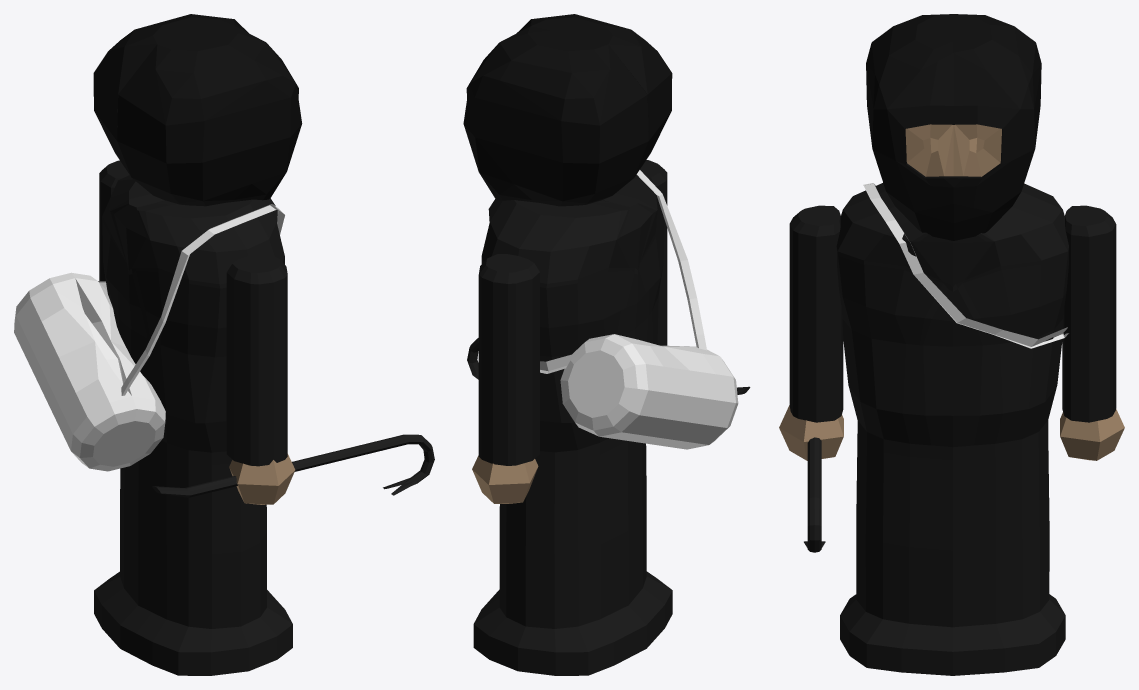
Rendered from PlayerGuy_Angemalen_Animation.gltf.
3 renders of one model, left to right at view 1: azimuth 30°, elevation 25°; view 2: azimuth 150°, elevation 25°; view 3: azimuth 270°, elevation 25°, orthographic. The views are drawn at different scales.
Parts seen in each view (by area): view 1: Body, Head, Cylinder, Arms, Crowbar, HandL, Arms.001; view 2: Body, Head, Cylinder, Arms.001, HandR, Arms, Crowbar; view 3: Body, Head, Arms, Arms.001, Cylinder, HandR, HandL, Crowbar.
Part boxes in pixels (x1,y1,x2,y2): Body: [94, 175, 292, 675]; Head: [93, 14, 302, 206]; Cylinder: [14, 204, 284, 471]; Arms: [226, 254, 287, 466]; Crowbar: [152, 434, 434, 497]; HandL: [229, 454, 295, 504]; Arms.001: [99, 160, 129, 280]; Body: [473, 174, 672, 675]; Head: [463, 14, 672, 206]; Cylinder: [540, 170, 738, 449]; Arms.001: [478, 254, 539, 465]; HandR: [472, 455, 538, 503]; Arms: [640, 160, 667, 345]; Crowbar: [467, 338, 750, 394]; Body: [836, 183, 1068, 675]; Head: [866, 14, 1041, 240]; Arms: [789, 205, 843, 422]; Arms.001: [1062, 205, 1116, 422]; Cylinder: [863, 183, 1068, 348]; HandR: [1060, 409, 1124, 460]; HandL: [779, 405, 843, 460]; Crowbar: [804, 437, 825, 552].
Size of the model in its own units: 3.49 by 6.31 by 3.25.
